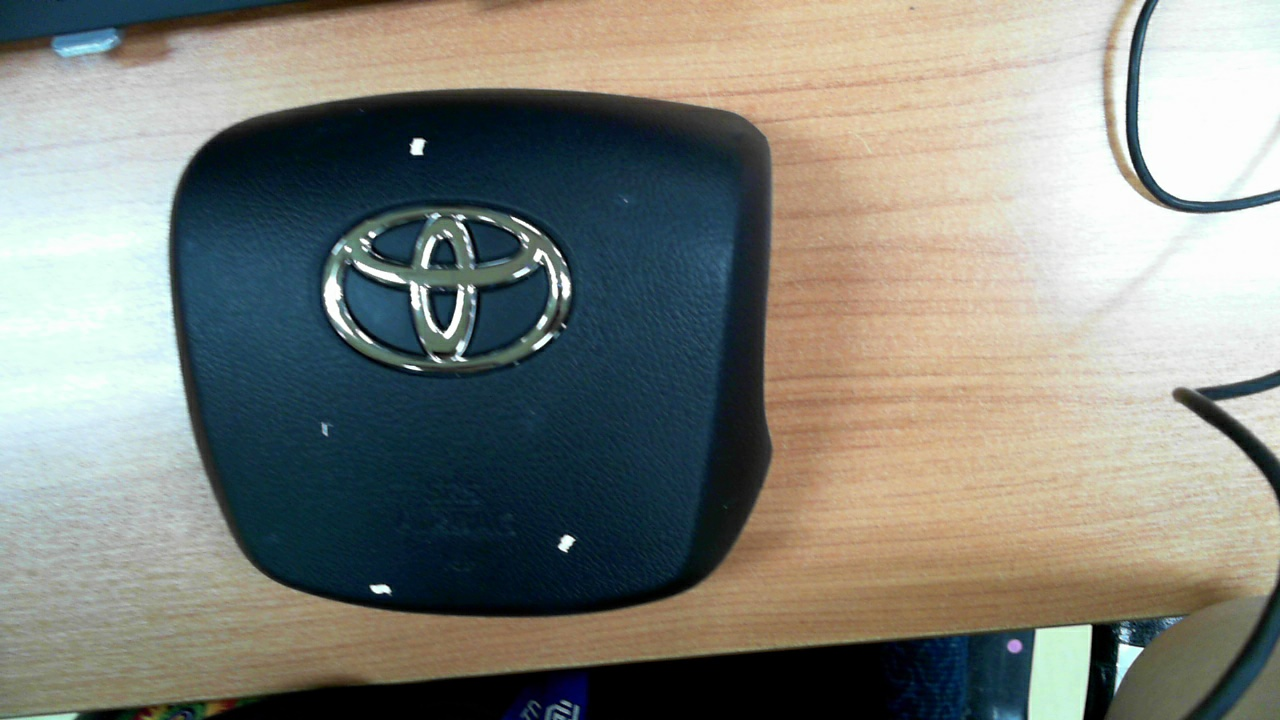Airbag: (169, 90, 773, 617)
Mark: (556, 534, 576, 553), (409, 137, 425, 156), (369, 584, 393, 596), (321, 421, 330, 438), (623, 198, 629, 204)
